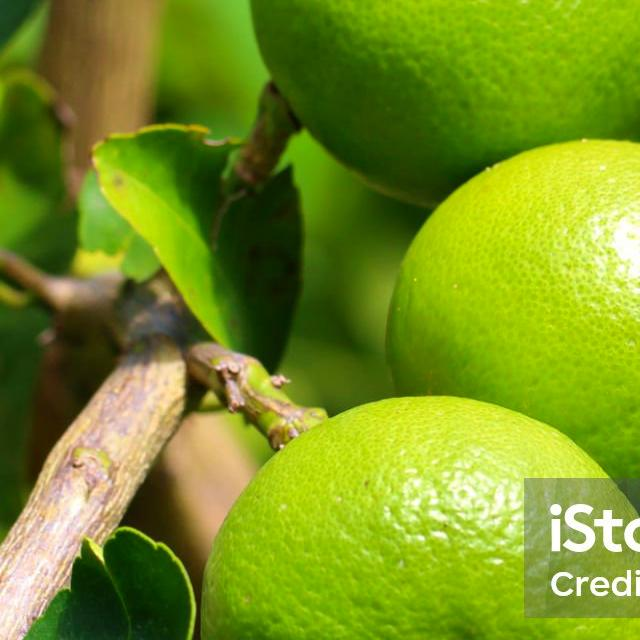lime: (247, 0, 640, 212)
